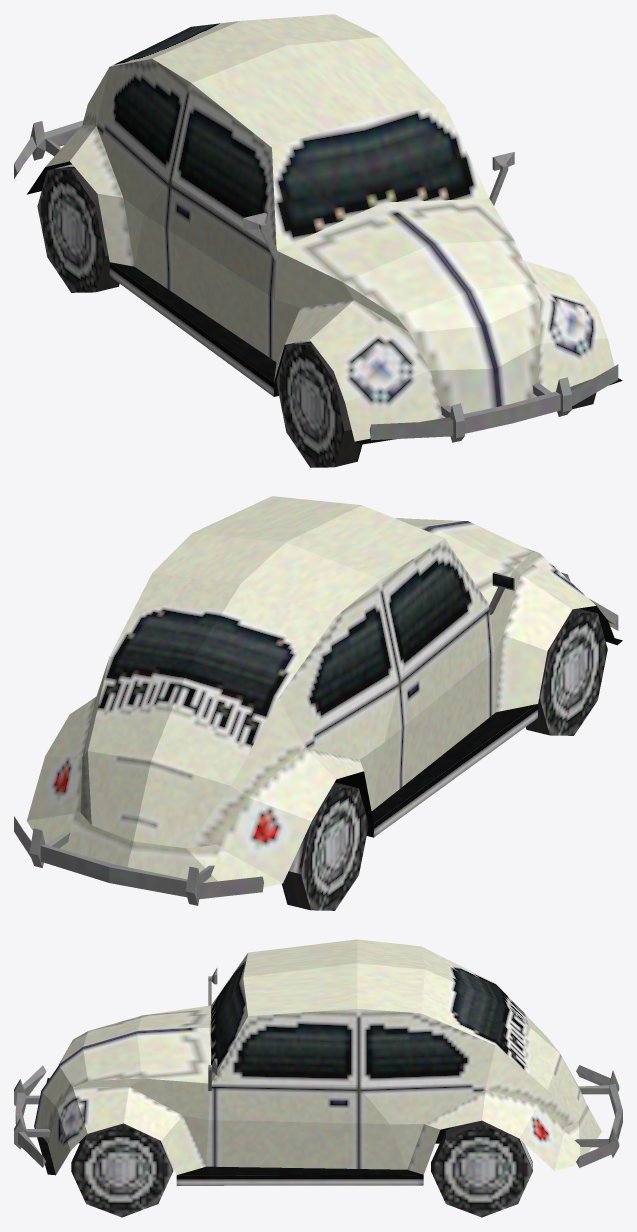
File: petarblanca.fbx
3 views of the same model, one above another, from view 1: azimuth 30°, elevation 25°; view 2: azimuth 150°, elevation 25°; view 3: azimuth 270°, elevation 25° (orthographic). The views are drawn at different scales.
Parts seen in each view (by area): view 1: compact_classic, wheel_FR, wheel_RR; view 2: compact_classic, wheel_RR, wheel_FR; view 3: compact_classic, wheel_RL, wheel_FL.
Part boxes in pixels (x1,y1,x2,y2): compact_classic: (14,14,622,444); wheel_FR: (276,340,362,467); wheel_RR: (37,164,119,292); compact_classic: (14,496,622,905); wheel_RR: (282,782,368,910); wheel_FR: (525,608,607,735); compact_classic: (14,939,622,1185); wheel_RL: (431,1120,532,1217); wheel_FL: (71,1123,173,1217).
Bounding box in the file's own units: 158 × 153 × 406.
